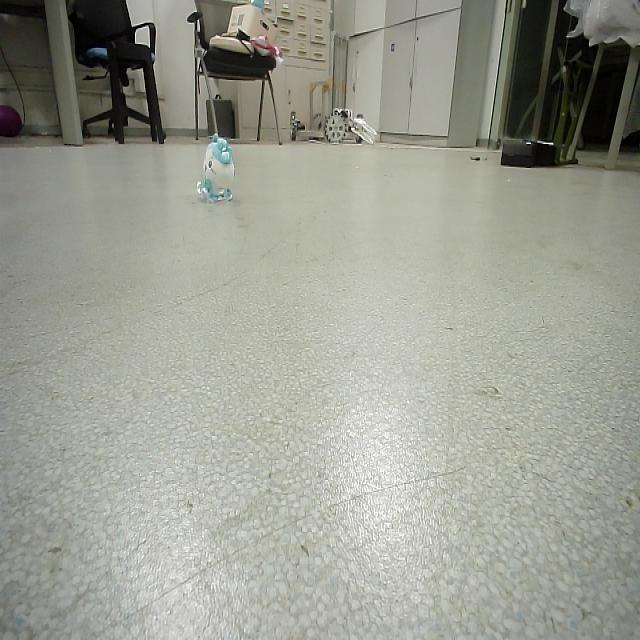xiaoba: (195, 130, 238, 208)
